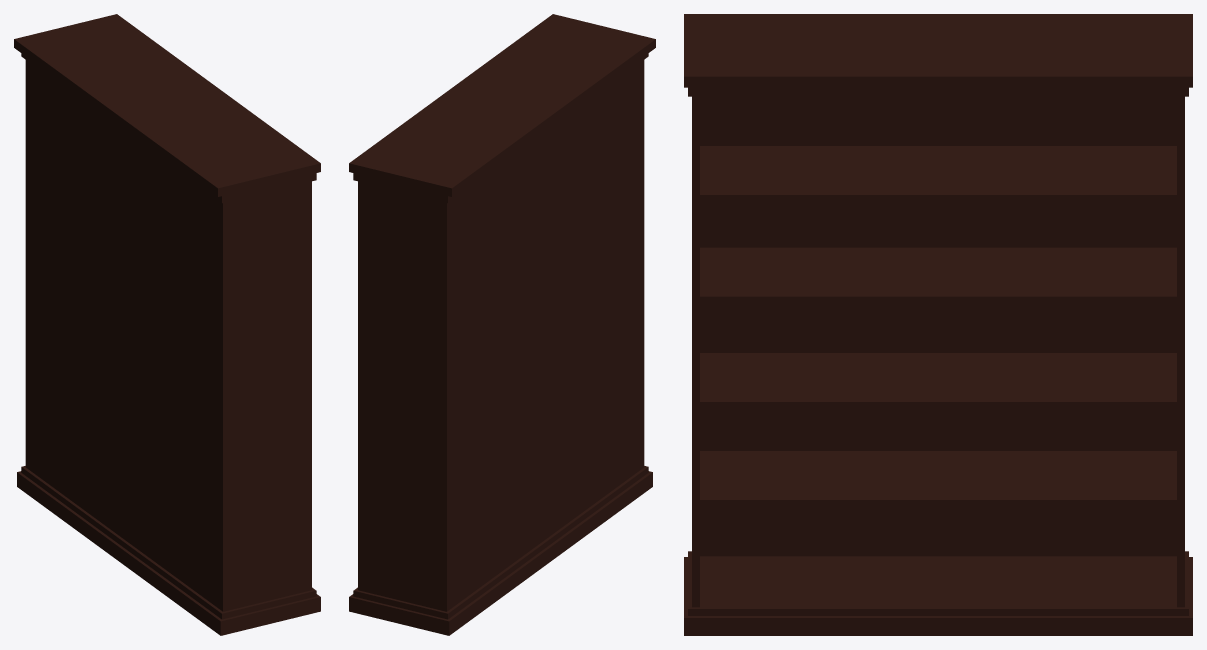
The model's file is Police.FBX.
3 views of the same model, side by side, from view 1: azimuth 30°, elevation 25°; view 2: azimuth 150°, elevation 25°; view 3: azimuth 270°, elevation 25° (orthographic). The views are drawn at different scales.
Visible parts, largest first — view 1: model; view 2: model; view 3: model.
Boxes of the visible parts, x1,y1,x2,y2 form: model: (14, 14, 320, 635); model: (349, 14, 655, 635); model: (684, 14, 1192, 635).
Size of the model in its own units: 37 by 127 by 154.
